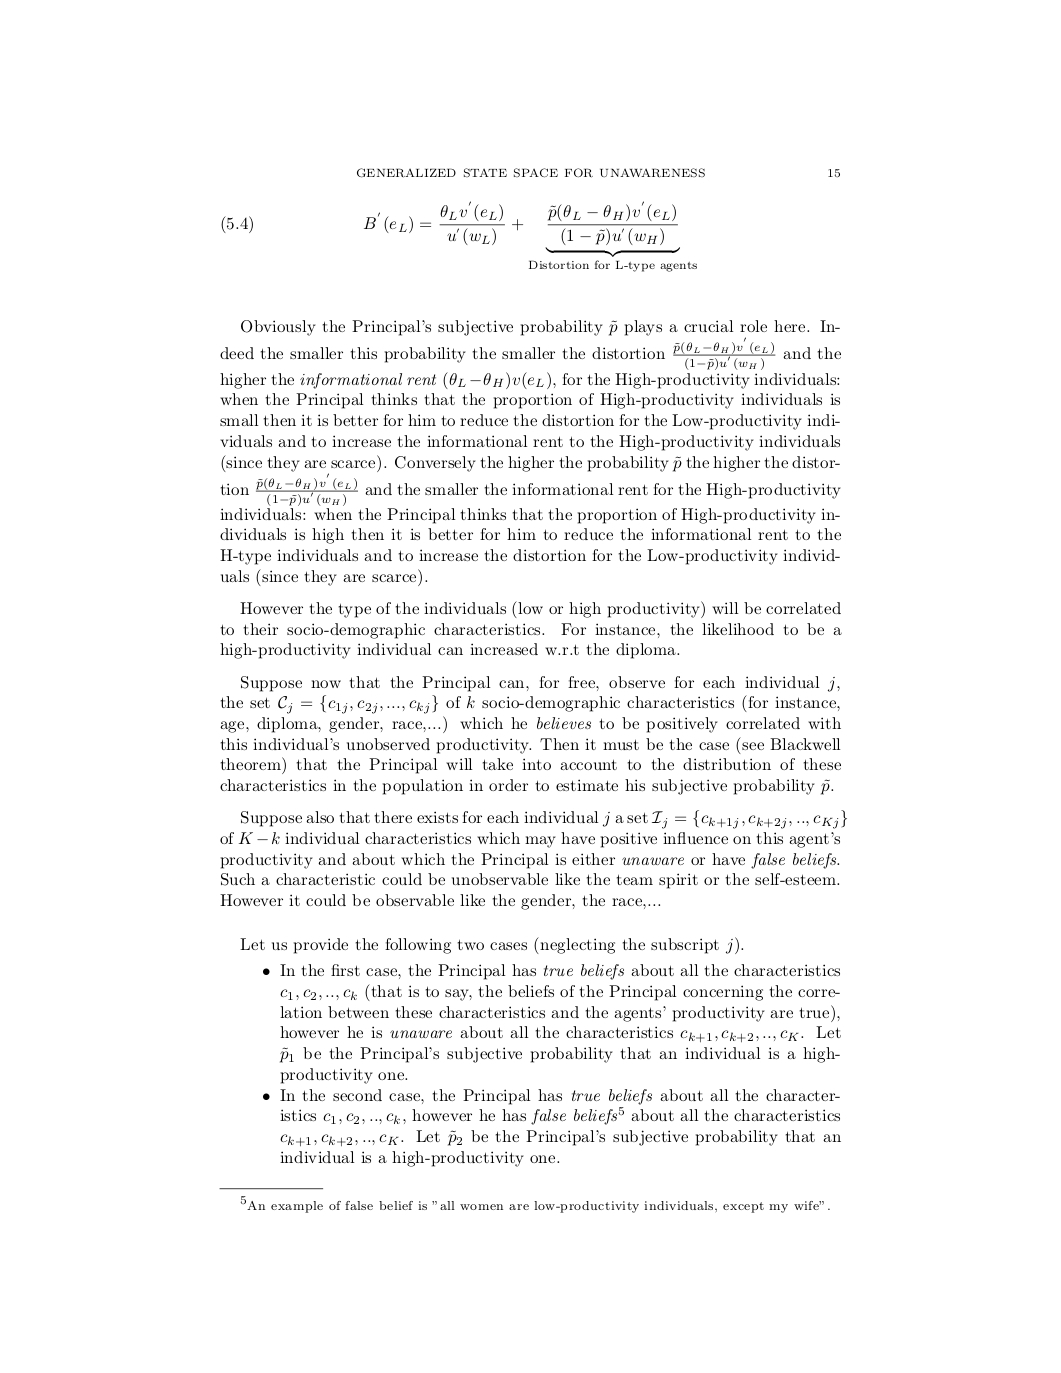formula: (221, 201, 695, 271)
